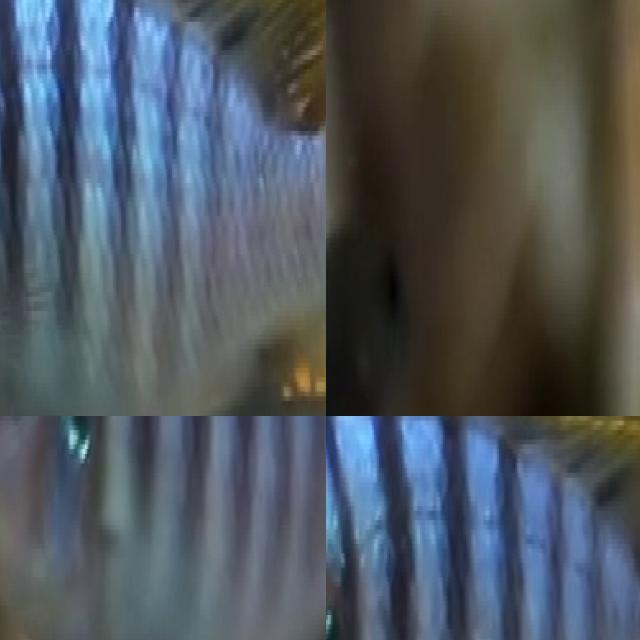fish: (0, 0, 326, 416), (0, 416, 326, 640), (326, 416, 640, 640)
